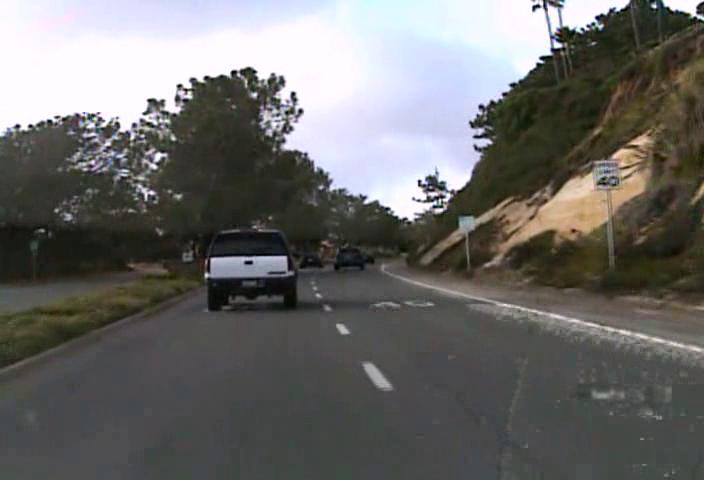speedLimit40: (592, 158, 621, 189)
